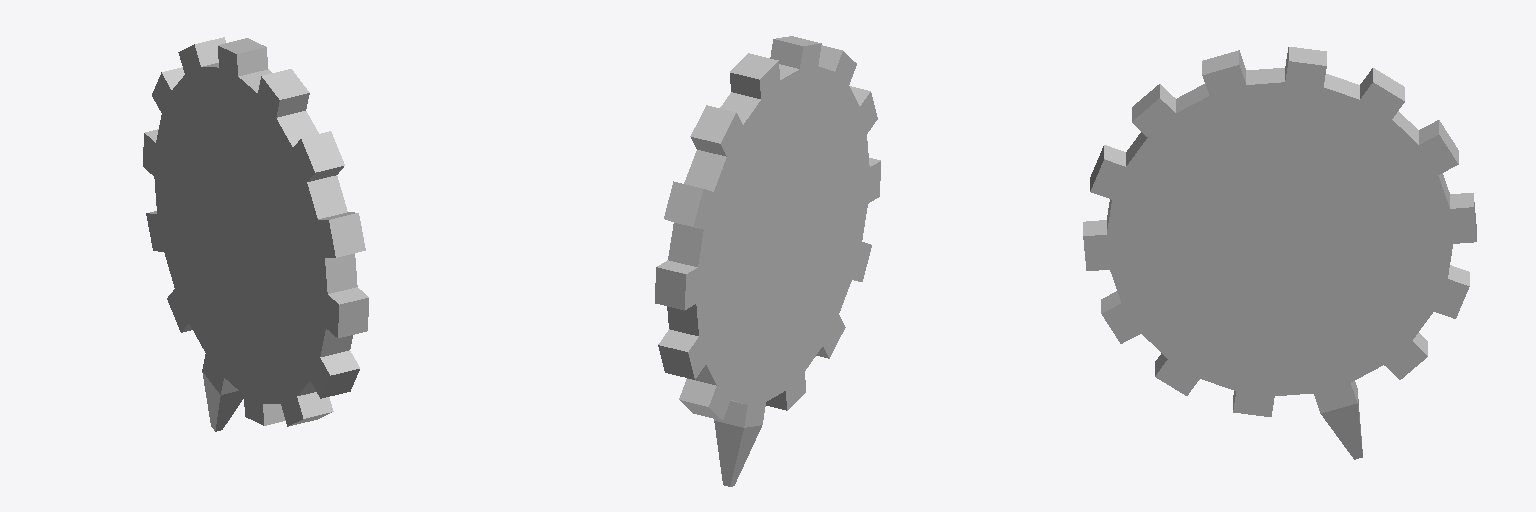
File: gear_000012.obj
3 views of the same model, side by side, from view 1: azimuth 30°, elevation 25°; view 2: azimuth 150°, elevation 25°; view 3: azimuth 270°, elevation 25° (orthographic).
Parts seen in each view (by area): view 1: gear_Cylinder.001; view 2: gear_Cylinder.001; view 3: gear_Cylinder.001.
Boxes of the visible parts, x1,y1,x2,y2 form: gear_Cylinder.001: [143, 37, 368, 431]; gear_Cylinder.001: [655, 36, 880, 486]; gear_Cylinder.001: [1083, 47, 1476, 459].
Size of the model in its own units: 0.1 by 1.29 by 1.13.